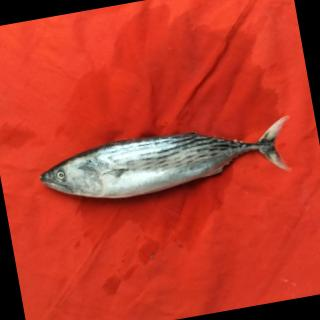Ikan: (32, 102, 307, 227)
